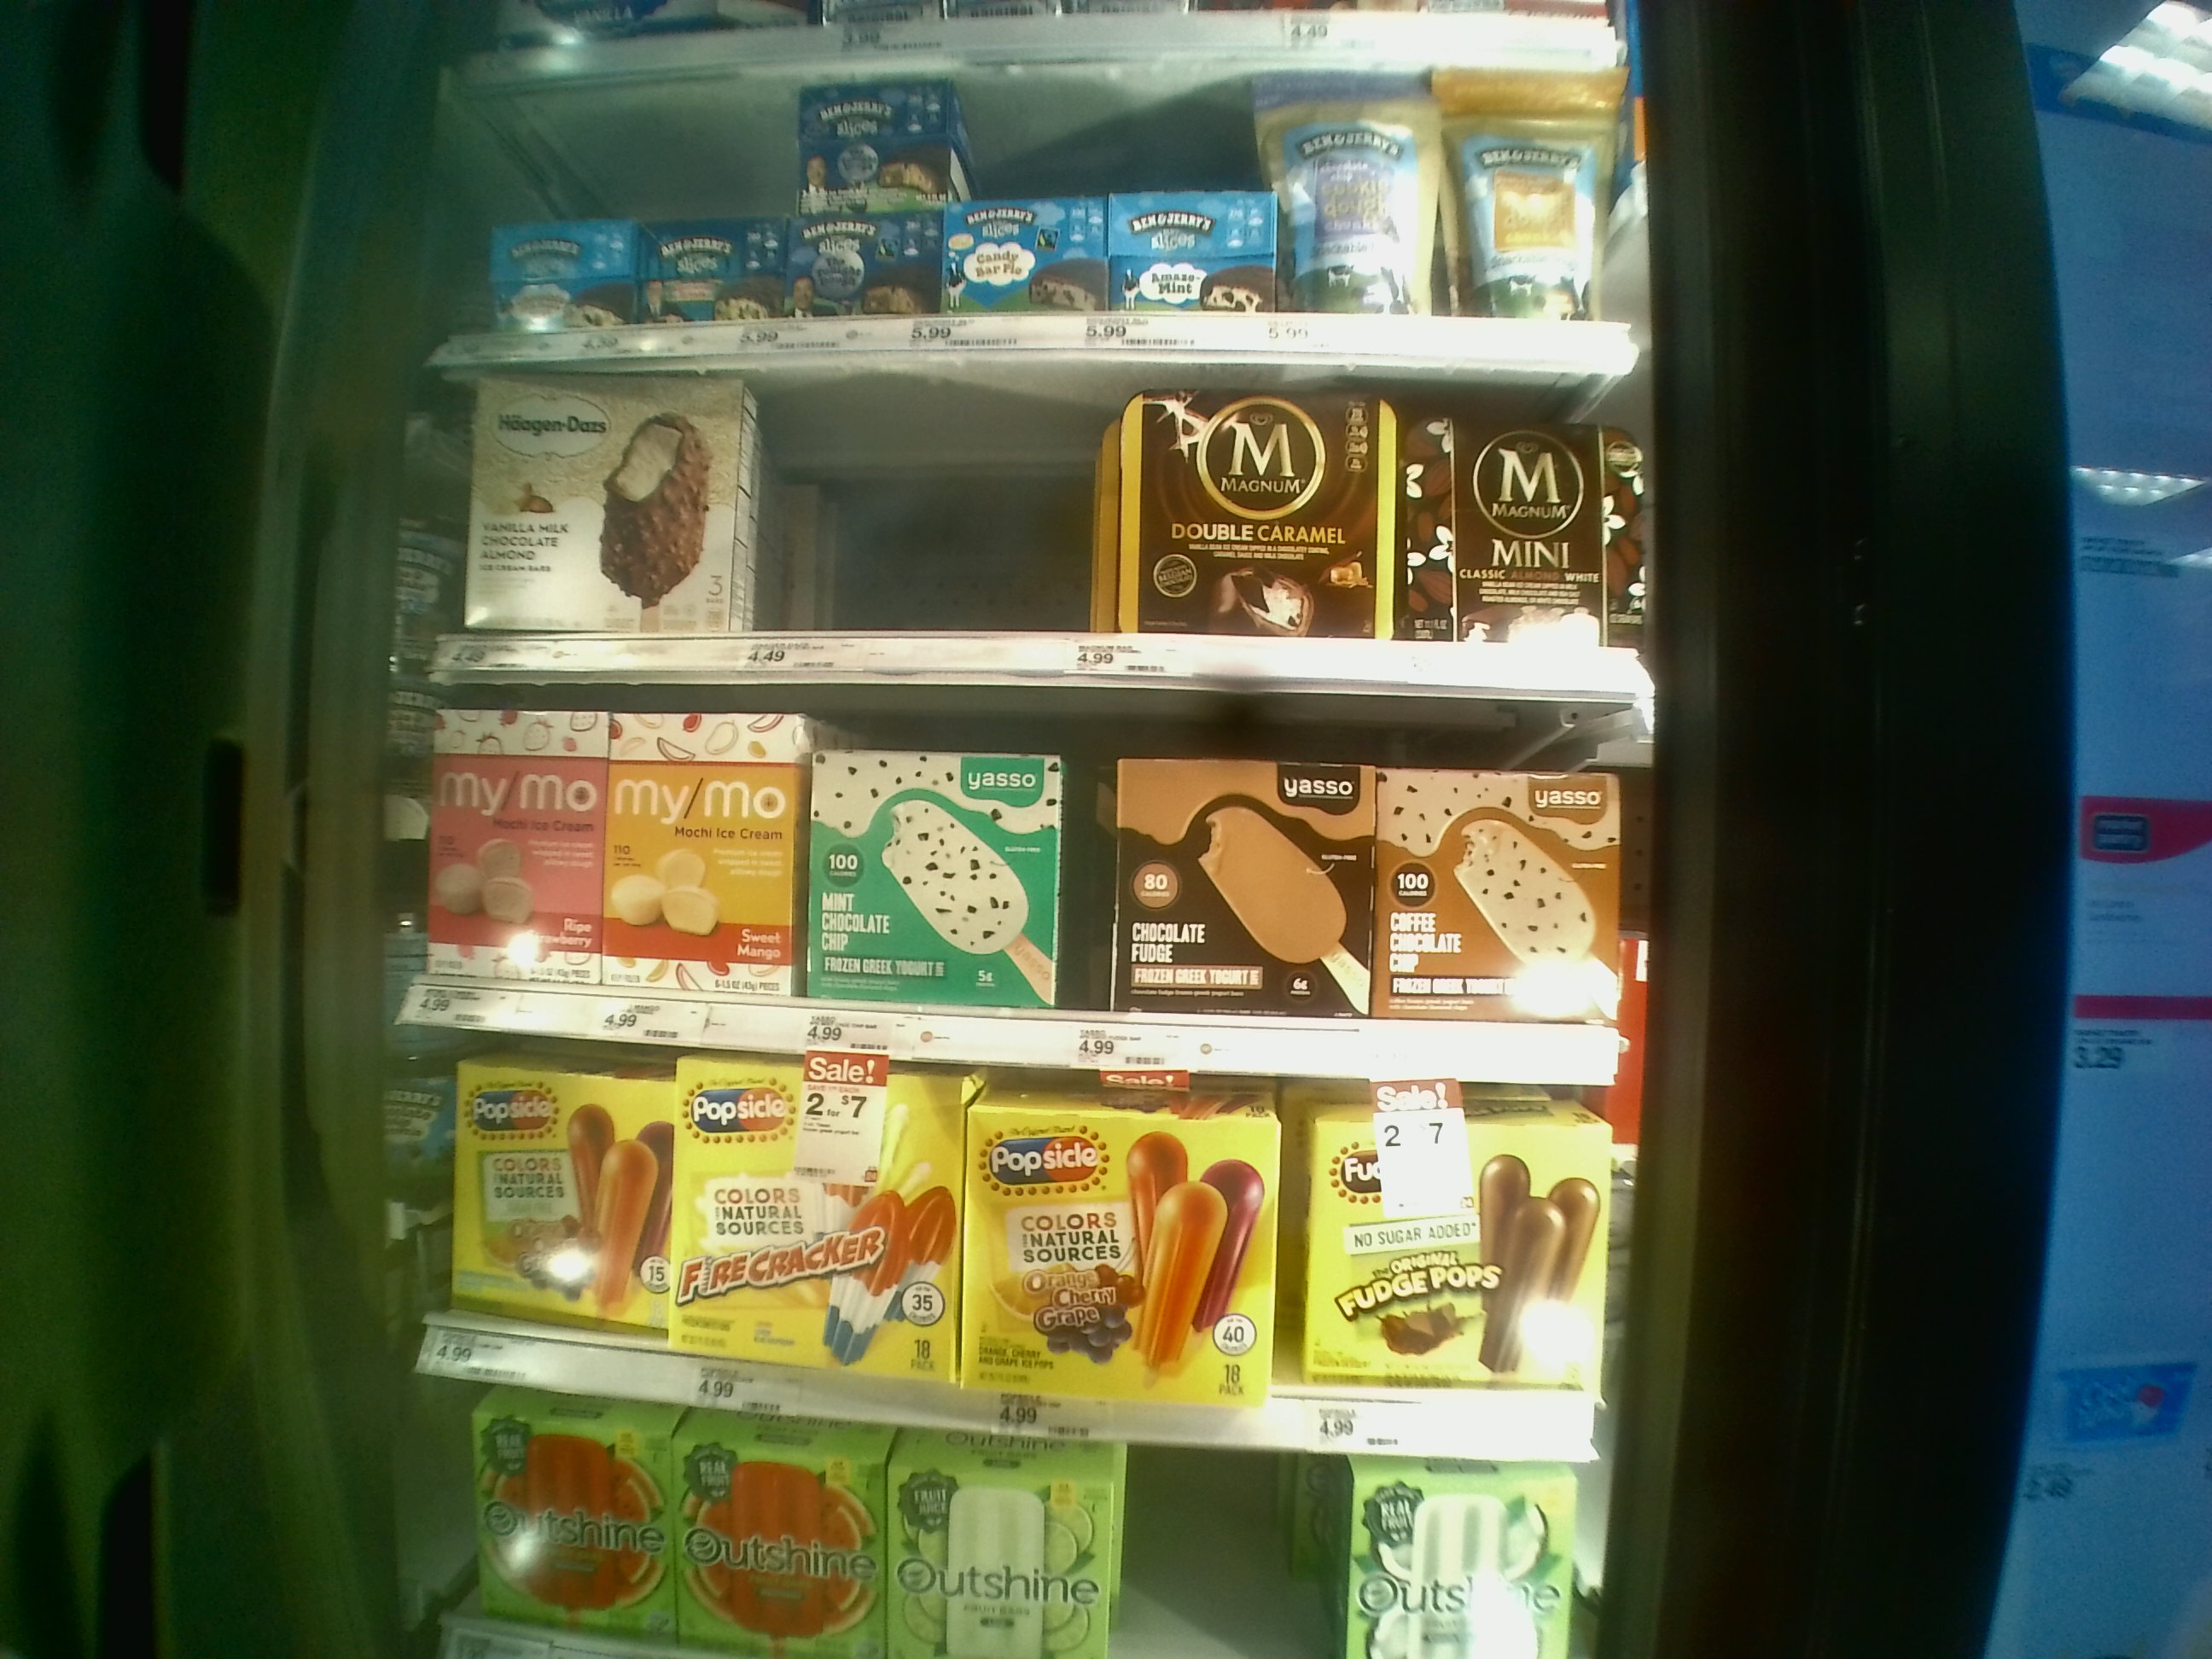shelf: (406, 1030, 1623, 1452), (421, 695, 1623, 1068), (435, 352, 1646, 683), (435, 82, 1630, 371)
